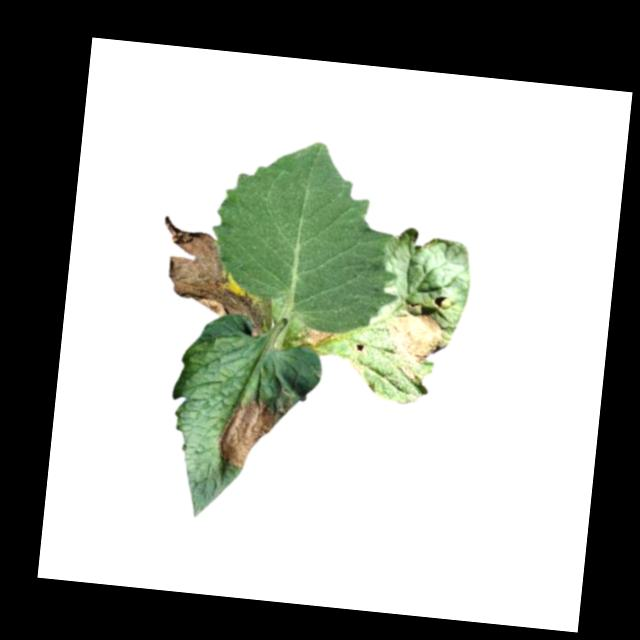Late_blight: (153, 217, 281, 338), (214, 391, 290, 473), (381, 305, 444, 367), (300, 325, 333, 348)
healthy: (204, 130, 412, 338)
